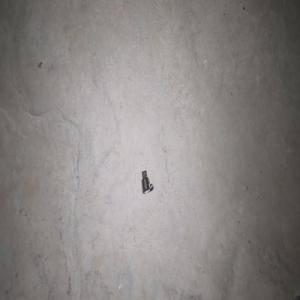MetalPart: (141, 169, 153, 193)
